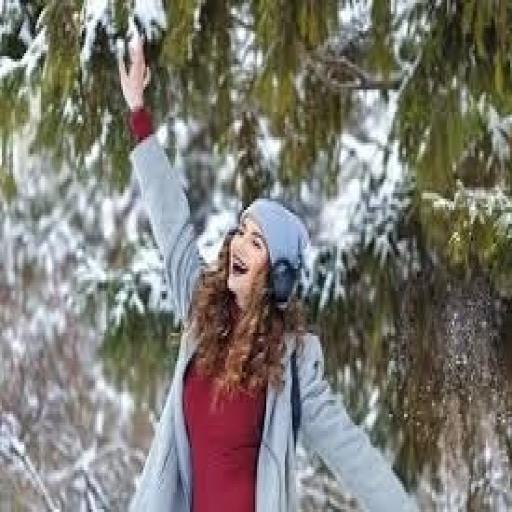listening_to_music: (114, 20, 422, 509)
